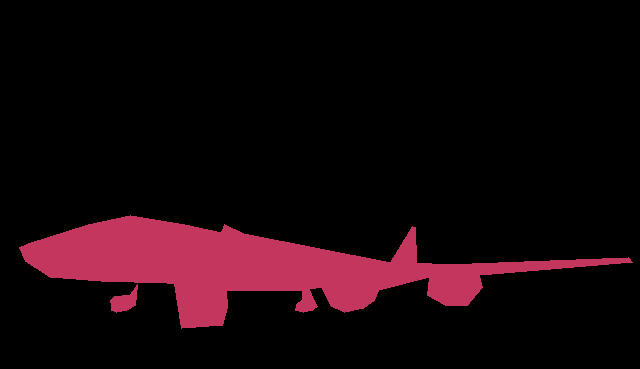Airplane: (19, 215, 633, 328)
